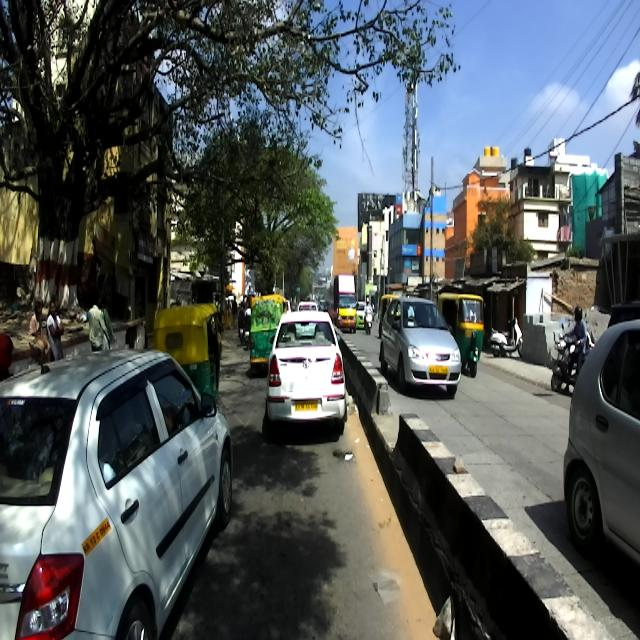car ahead at: (7, 340, 240, 640), (264, 301, 351, 433), (376, 287, 464, 398)
